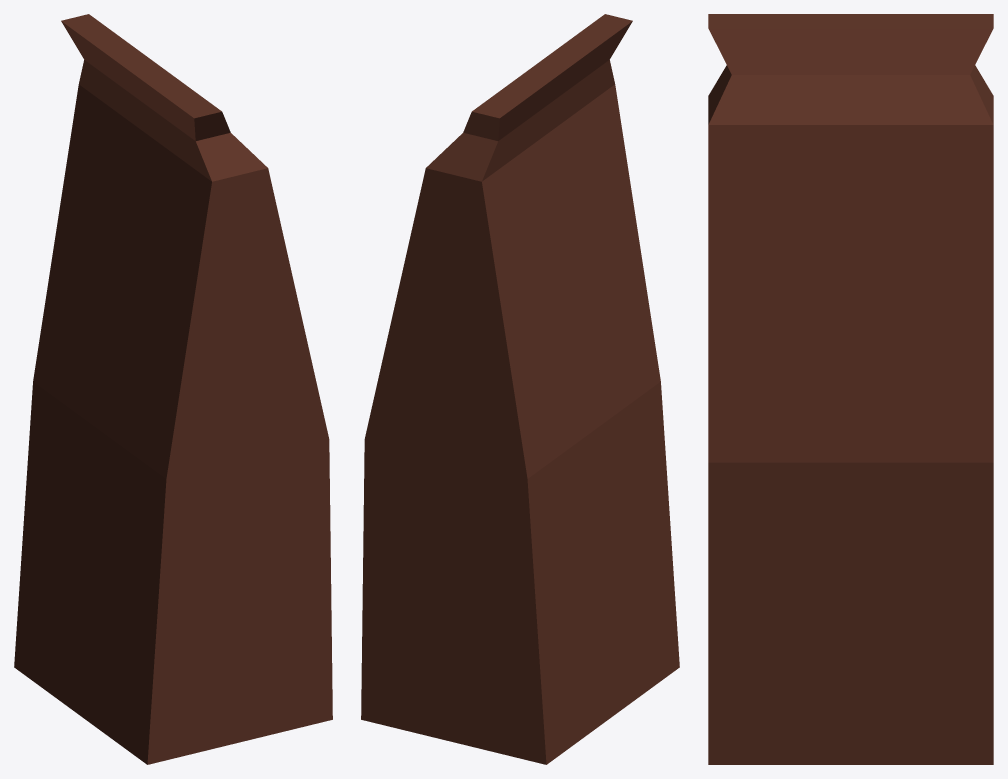
File: Bag_coffe1.fbx
The picture shows the model from 3 angles, left to right: view 1: azimuth 30°, elevation 25°; view 2: azimuth 150°, elevation 25°; view 3: azimuth 270°, elevation 25°; orthographic projection. The views are drawn at different scales.
Visible parts, largest first — view 1: bag coffe.011; view 2: bag coffe.011; view 3: bag coffe.011.
Part boxes in pixels (x1,y1,x2,y2): bag coffe.011: [14, 14, 332, 764]; bag coffe.011: [361, 14, 679, 764]; bag coffe.011: [708, 14, 993, 764].
Bounding box in the file's own units: 0.0556 × 0.1819 × 0.0692.
